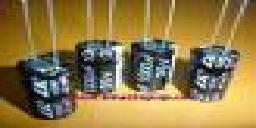Electrolytic-capacitor: (186, 1, 253, 105), (15, 48, 76, 124), (126, 34, 181, 95), (73, 35, 127, 93)
